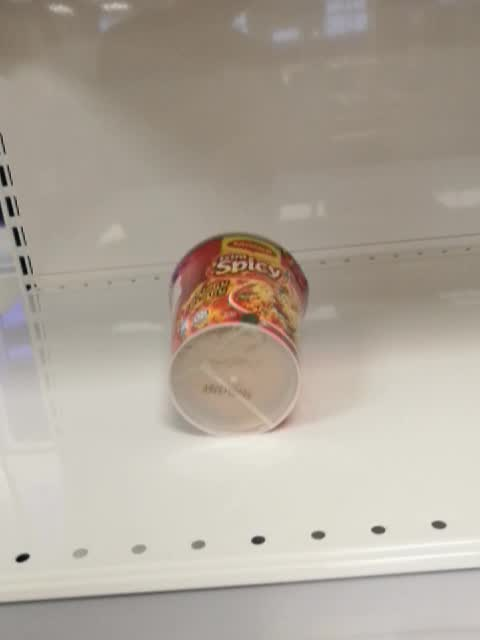maggi: (161, 233, 309, 438)
